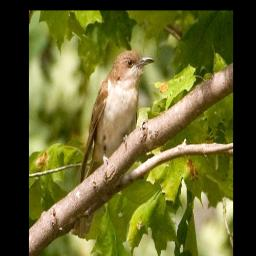Cuckoo: (71, 46, 156, 242)
